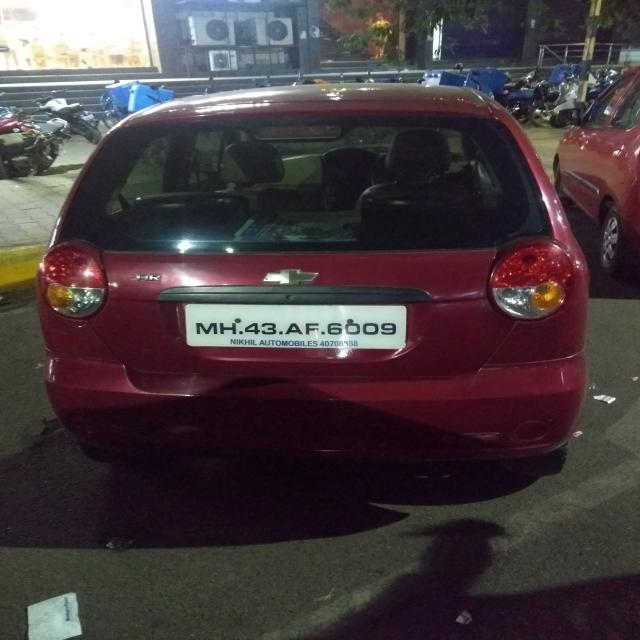Number-Plate: (187, 302, 406, 348)
